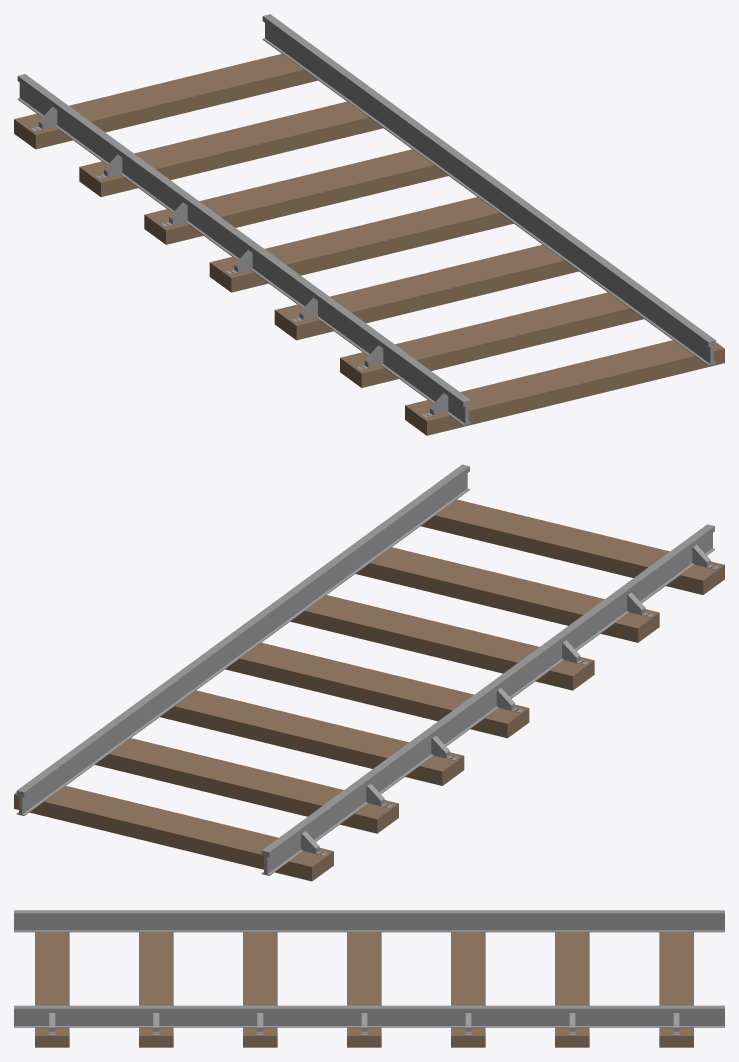
File: Trilho Reto.fbx
3 renders of one model, top to bottom at view 1: azimuth 30°, elevation 25°; view 2: azimuth 150°, elevation 25°; view 3: azimuth 270°, elevation 25°, orthographic. The views are drawn at different scales.
Visible parts, largest first — view 1: Cube.005; view 2: Cube.005; view 3: Cube.005.
Boxes of the visible parts, x1,y1,x2,y2 form: Cube.005: [14, 14, 724, 435]; Cube.005: [14, 464, 724, 881]; Cube.005: [14, 910, 724, 1047].
Size of the model in its own units: 232 by 28.2 by 601.
